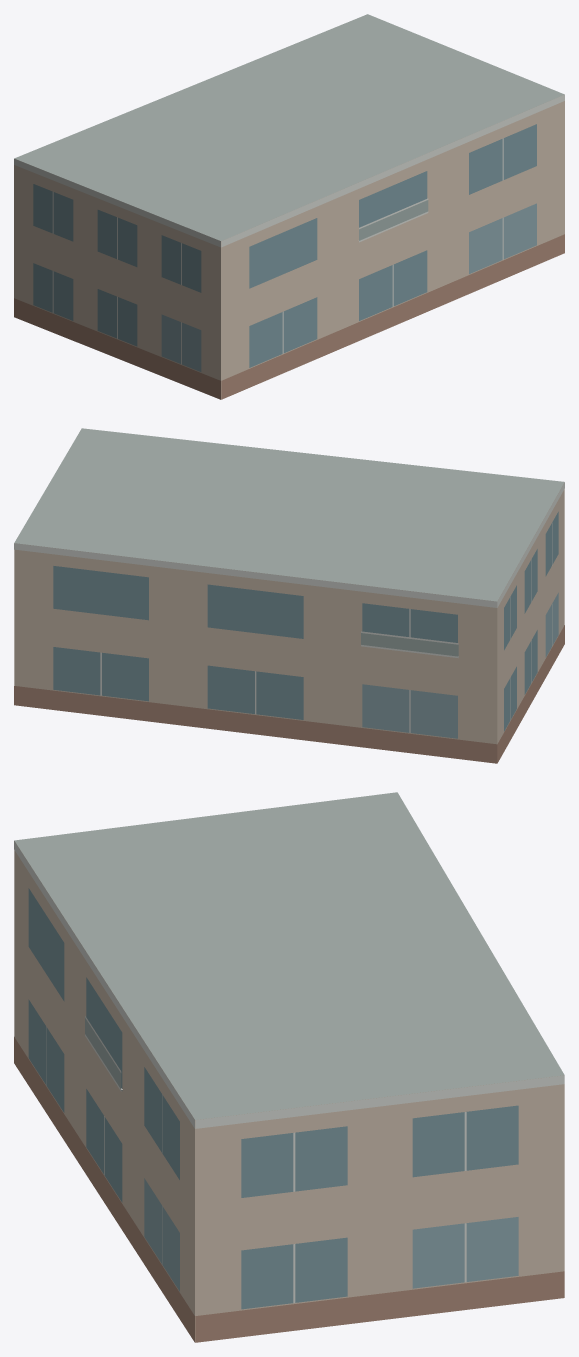
Rendered from survey-upis-32458929.glb.
3 views of the same model, one above another, from view 1: azimuth 30°, elevation 25°; view 2: azimuth 150°, elevation 25°; view 3: azimuth 270°, elevation 25° (orthographic). The views are drawn at different scales.
Parts seen in each view (by area): view 1: survey-upis-32458929.tmp; view 2: survey-upis-32458929.tmp; view 3: survey-upis-32458929.tmp.
Boxes of the visible parts, x1,y1,x2,y2 form: survey-upis-32458929.tmp: (14,14,564,399); survey-upis-32458929.tmp: (14,428,564,763); survey-upis-32458929.tmp: (14,792,564,1342).
Size of the model in its own units: 19.28 by 6.1 by 13.68.
